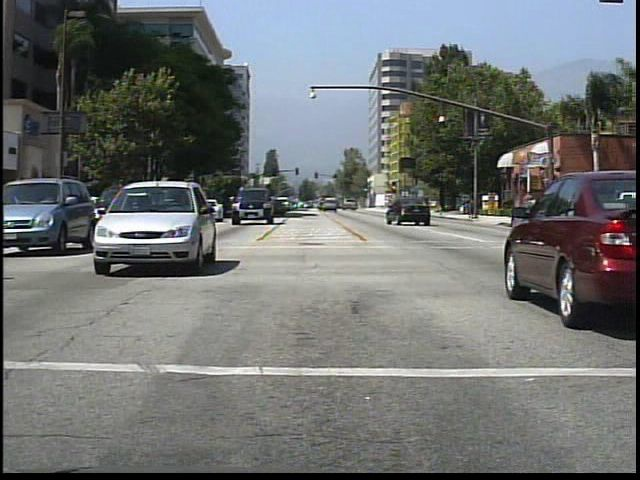person: (565, 190, 586, 235), (519, 190, 537, 227)
